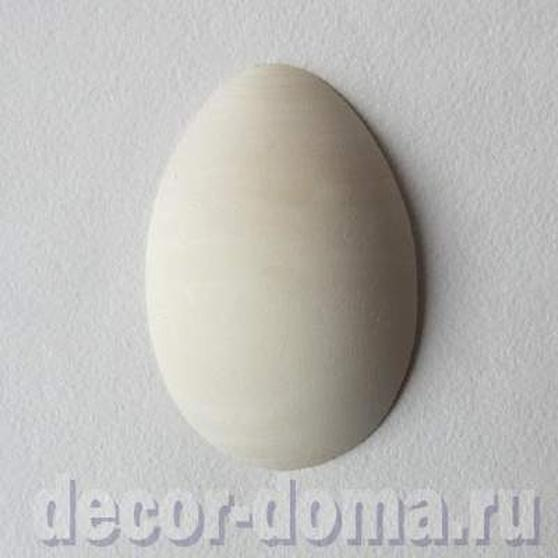egg: (147, 57, 426, 472)
